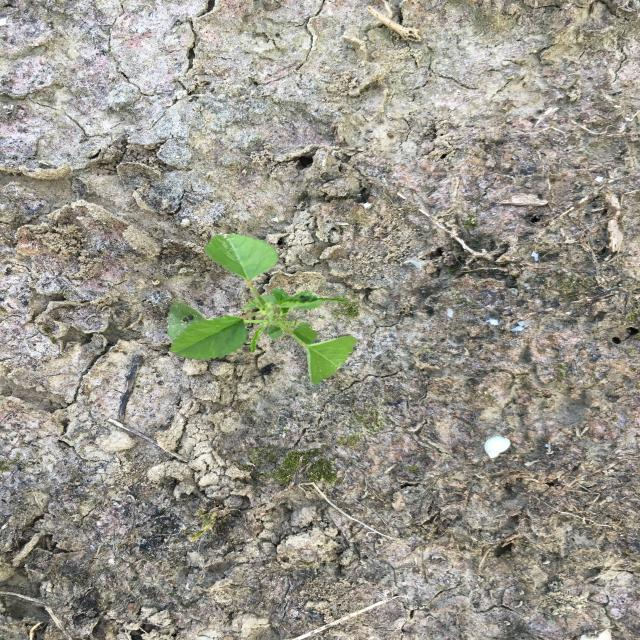PricklySida: (164, 232, 360, 386)
